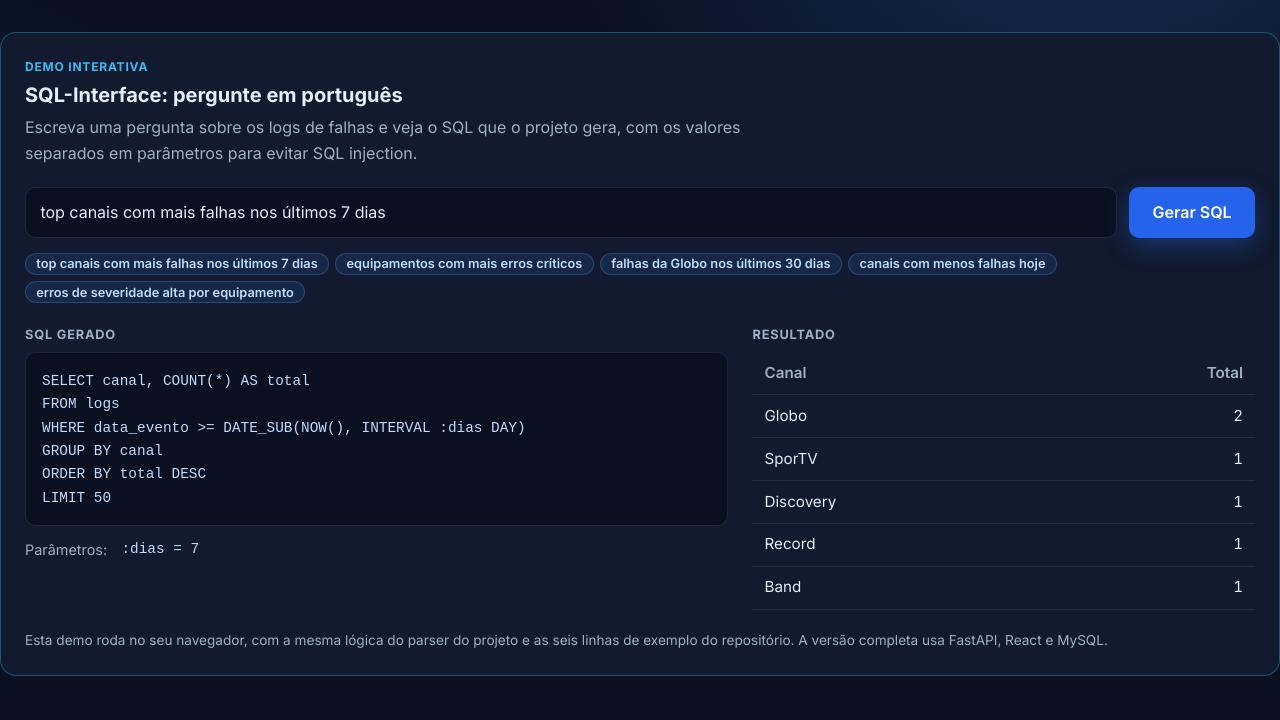
Test: SqlDemo › gera o SQL e a tabela para uma pergunta digitada
Replace the text in the field named "Pergunta em português" with "erros por equipamento": (571, 212) 25,187 -> 1117,238
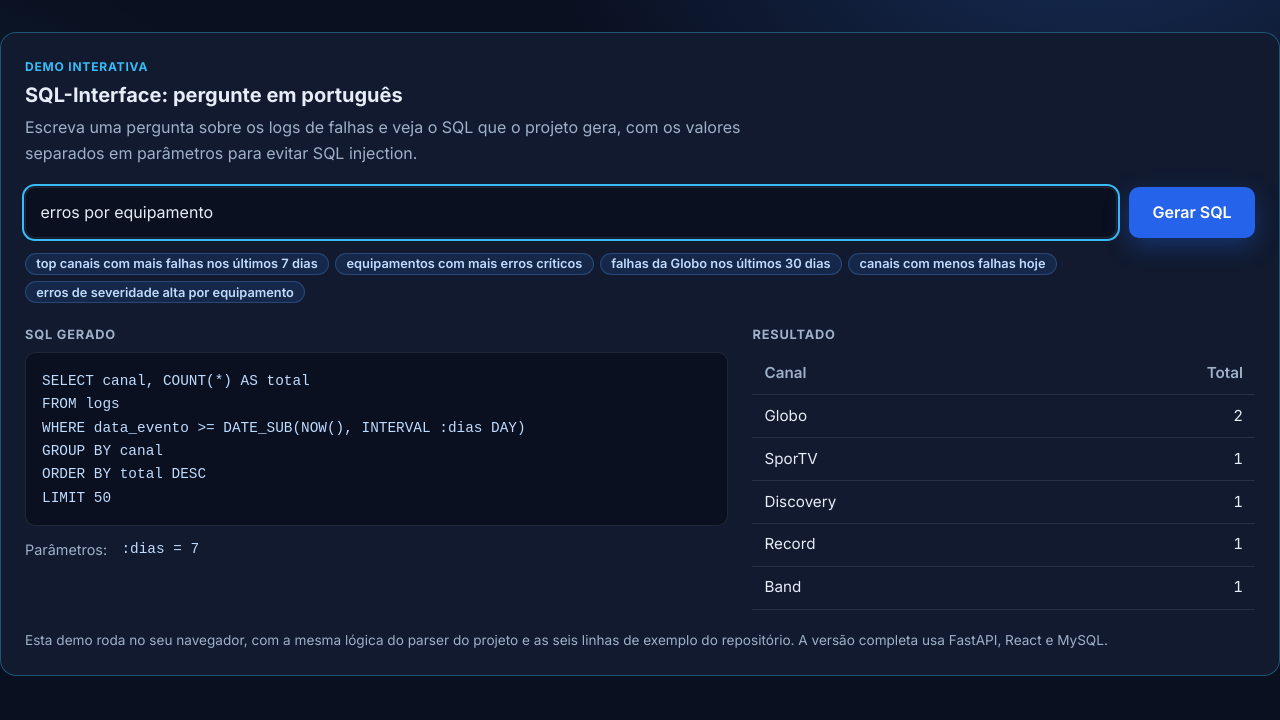
Click the button "Gerar SQL": (1192, 212) 1129,187 -> 1255,238
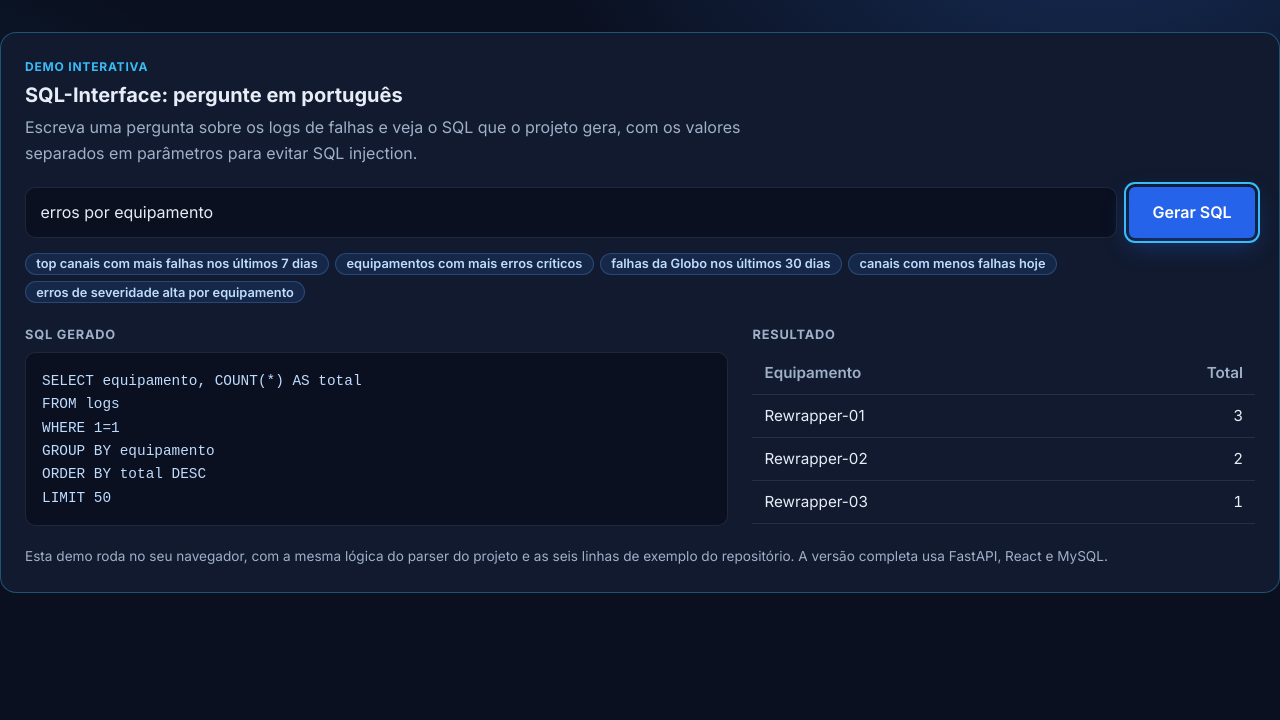
Now the text "GROUP BY equipamento" is shown, box 42,373 -> 362,506
Now the column heading "Equipamento" is shown, box 752,352 -> 1094,394
Now the row "Rewrapper-01 3" is shown, box 752,394 -> 1255,437
